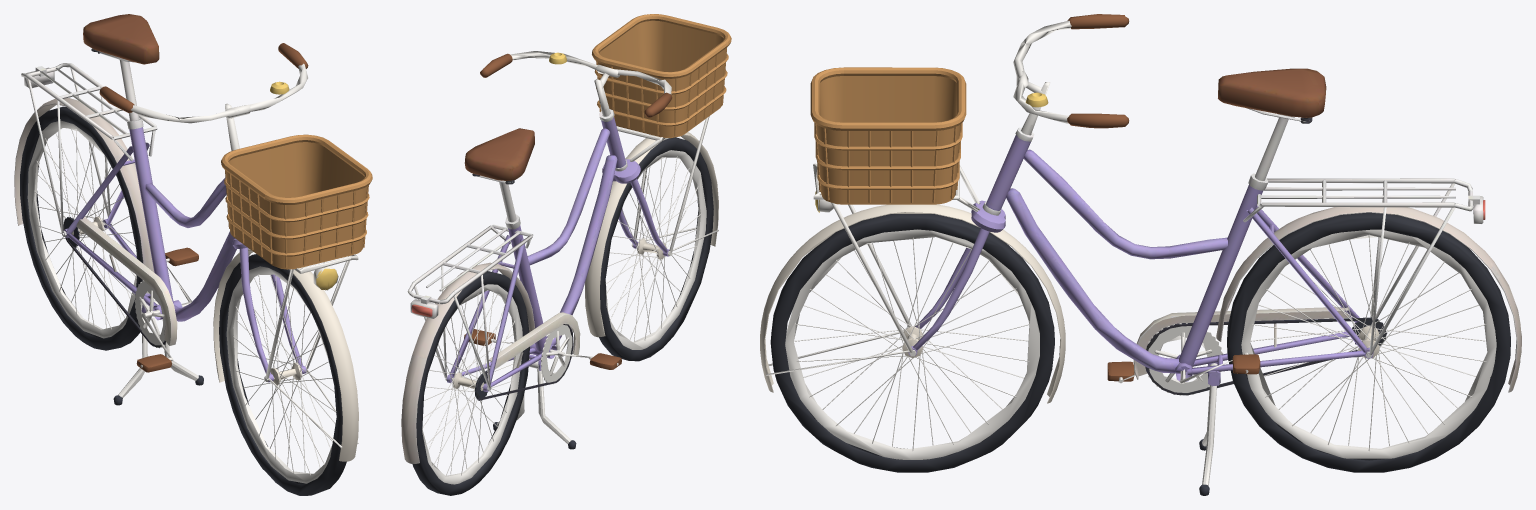
File: bicycle.glb
3 views of the same model, side by side, from view 1: azimuth 30°, elevation 25°; view 2: azimuth 150°, elevation 25°; view 3: azimuth 270°, elevation 25° (orthographic). The views are drawn at different scales.
Parts seen in each view (by area): view 1: bicycle_steering, bicycle_body, bicycle_crank, bicycle_wheel_front; view 2: bicycle_body, bicycle_steering, bicycle_crank, bicycle_wheel_front; view 3: bicycle_body, bicycle_crank, bicycle_steering, bicycle_wheel_front.
Boxes of the visible parts, box(x1,y1,x2,y2) form: bicycle_steering: box(213, 81, 372, 461); bicycle_body: box(14, 14, 236, 347); bicycle_crank: box(27, 43, 358, 483); bicycle_wheel_front: box(20, 106, 346, 495); bicycle_body: box(401, 109, 627, 463); bicycle_steering: box(549, 14, 731, 337); bicycle_crank: box(422, 51, 718, 484); bicycle_wheel_front: box(412, 137, 713, 495); bicycle_body: box(982, 68, 1521, 395); bicycle_crank: box(766, 14, 1496, 485); bicycle_steering: box(760, 67, 1065, 403); bicycle_wheel_front: box(770, 212, 1510, 472).
Bounding box in the file's own units: 0.6159 × 1.1 × 1.87.
Materials: 10 (1 with a texture image).
